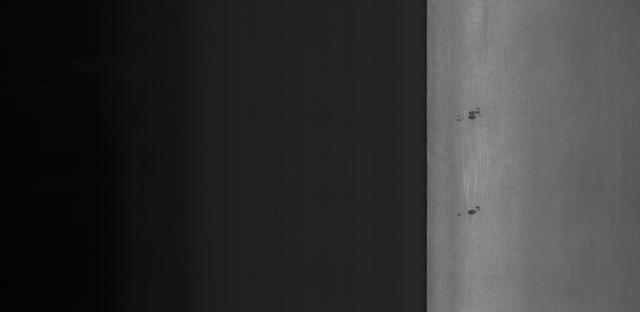oil_spot: (455, 197, 491, 222), (454, 105, 488, 128)
